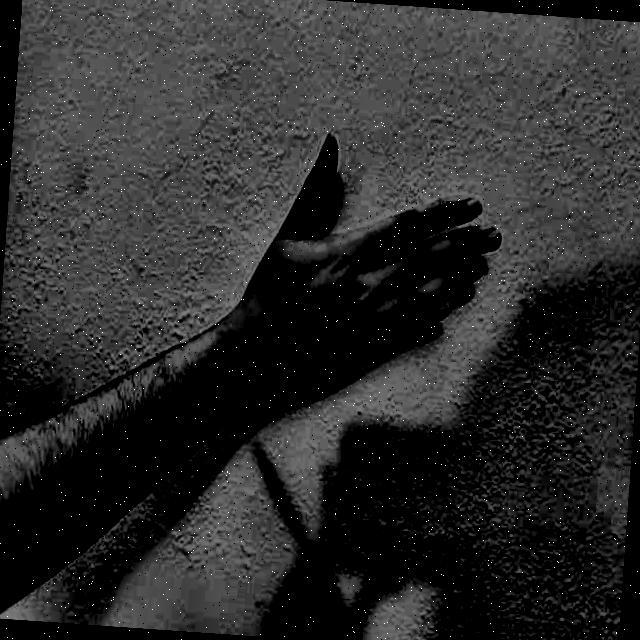Aa: (222, 86, 526, 443)
